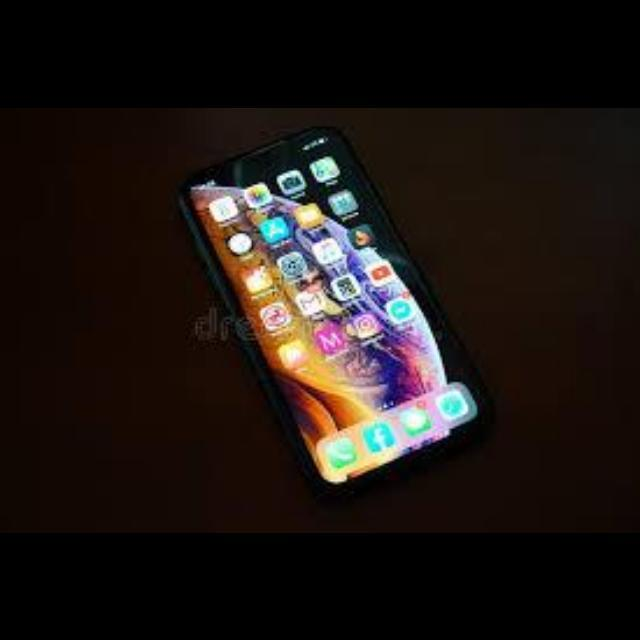Phone: (177, 123, 498, 490)
